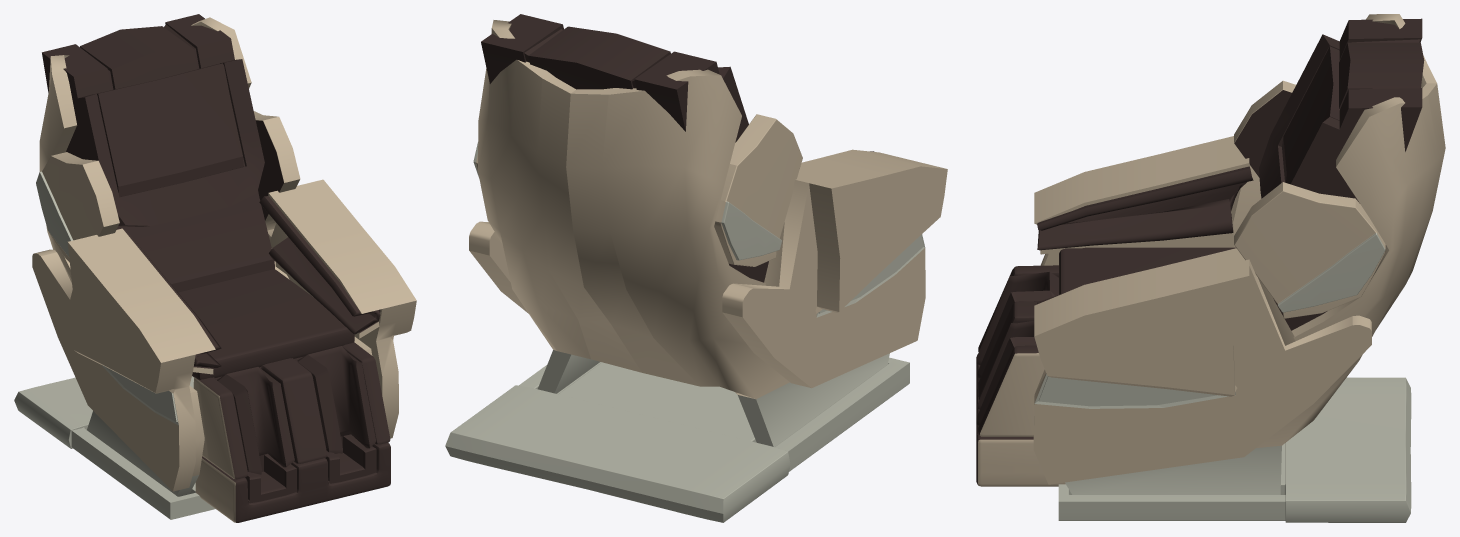
File: chair.fbx
The picture shows the model from 3 angles, left to right: view 1: azimuth 30°, elevation 25°; view 2: azimuth 150°, elevation 25°; view 3: azimuth 270°, elevation 25°; orthographic projection. The views are drawn at different scales.
Parts seen in each view (by area): view 1: polySurface14, pCube9, pCube8, polySurface11, pCube5, polySurface5, pCube15, polySurface7, pCube17, pCube12, polySurface9, polySurface6 (+5 smaller); view 2: pCube12, pCube15, polySurface14, pCube8, pCube17, polySurface11, pCube9; view 3: polySurface11, pCube12, pCube15, pCube16, polySurface13, polySurface14, pCube8, pCube9, polySurface5, pCube5, polySurface7, pCube17 (+2 smaller).
Part boxes in pixels (bbox=[...]): polySurface14: bbox=[32, 228, 215, 491]; pCube9: bbox=[75, 59, 264, 226]; pCube8: bbox=[42, 14, 275, 291]; polySurface11: bbox=[267, 179, 416, 438]; pCube5: bbox=[178, 269, 354, 379]; polySurface5: bbox=[193, 342, 390, 479]; pCube15: bbox=[14, 376, 215, 519]; polySurface7: bbox=[195, 442, 390, 522]; pCube17: bbox=[36, 152, 119, 262]; pCube12: bbox=[39, 17, 372, 496]; polySurface9: bbox=[297, 346, 375, 453]; polySurface6: bbox=[217, 367, 294, 474]; pCube12: bbox=[478, 20, 889, 447]; pCube15: bbox=[445, 357, 909, 522]; polySurface14: bbox=[722, 149, 947, 388]; pCube8: bbox=[481, 14, 768, 282]; pCube17: bbox=[714, 114, 802, 266]; polySurface11: bbox=[469, 221, 528, 313]; pCube9: bbox=[718, 66, 748, 141]; polySurface11: bbox=[1033, 248, 1371, 484]; pCube12: bbox=[1065, 14, 1445, 494]; pCube15: bbox=[1058, 377, 1411, 522]; pCube16: bbox=[1234, 182, 1385, 318]; polySurface13: bbox=[1037, 166, 1253, 250]; polySurface14: bbox=[1034, 136, 1261, 265]; pCube8: bbox=[1273, 18, 1424, 330]; pCube9: bbox=[1259, 34, 1344, 198]; polySurface5: bbox=[978, 265, 1058, 436]; pCube5: bbox=[1059, 247, 1236, 294]; polySurface7: bbox=[976, 354, 1065, 486]; pCube17: bbox=[1234, 80, 1295, 177].
Bounding box in the file's own units: 155 × 203 × 214.
